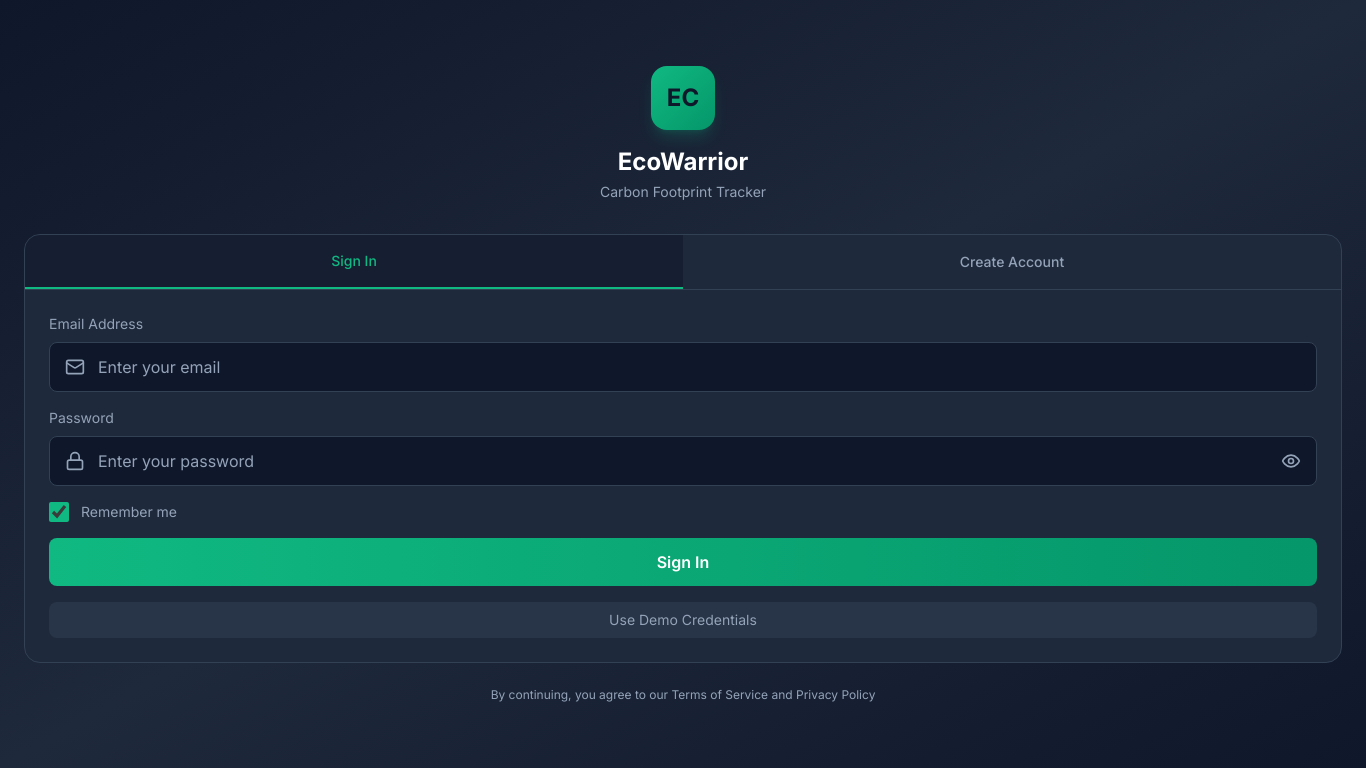
Test: AuthPortal – Form Validation › shows email error when form submitted with empty email
Click the button with aria-label "sign in to your account".
click(683, 562)  # box [49,538,1317,586]
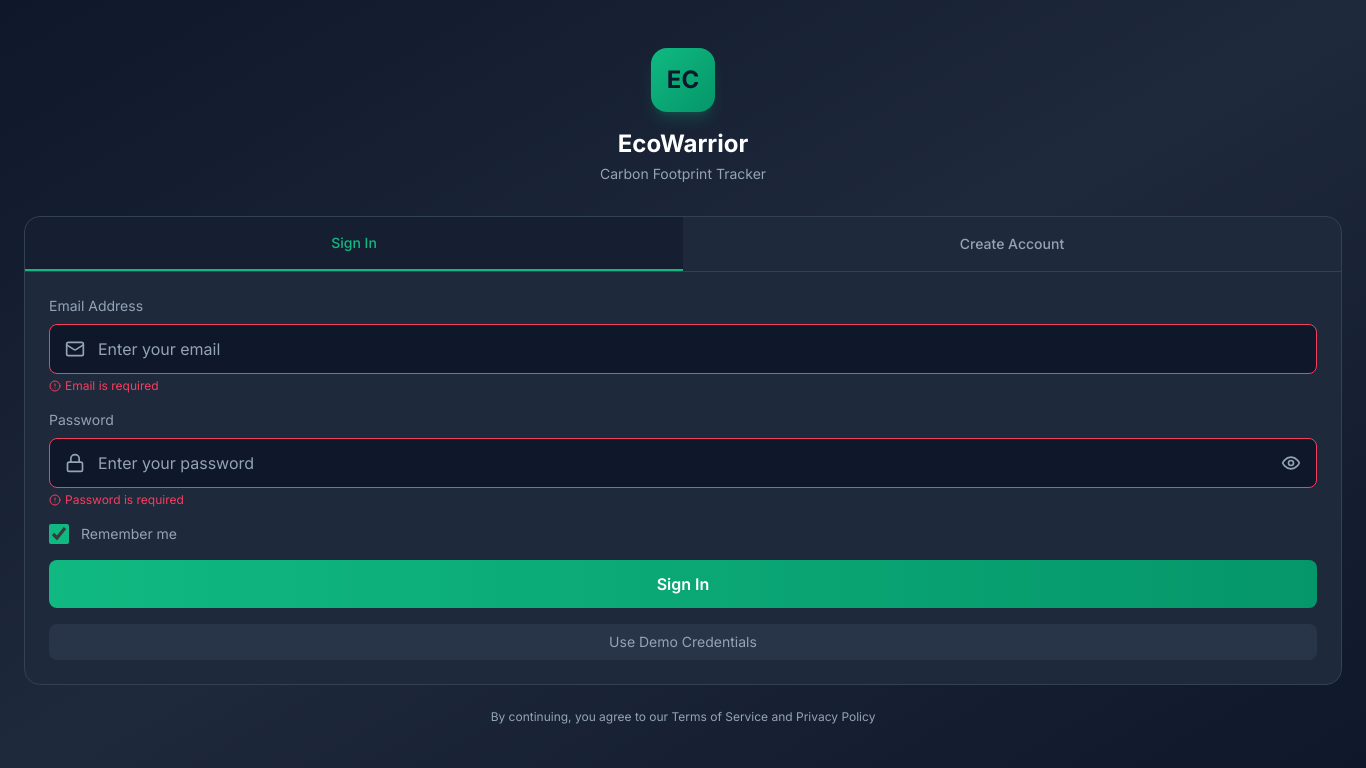
Expected: the text "Email is required" is shown, [49,378,159,393]
